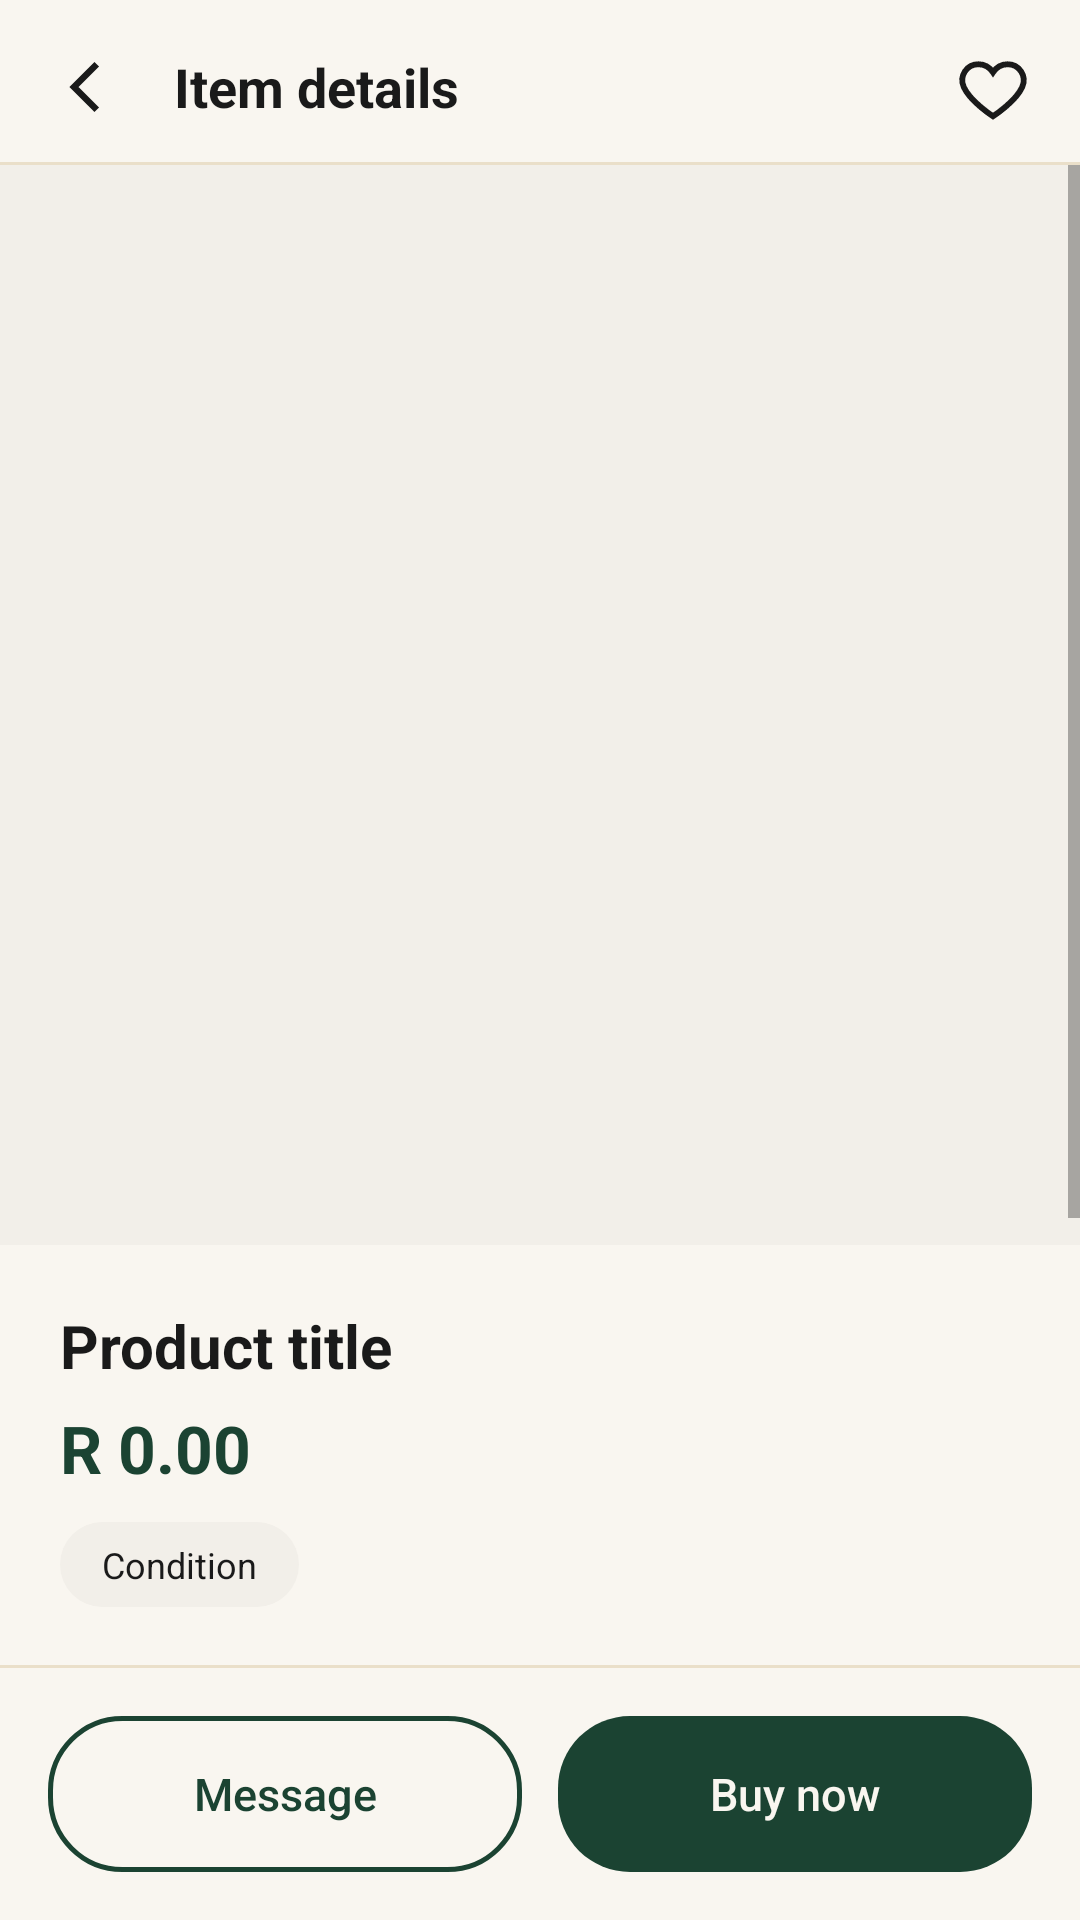

Named icons in this screenshot (1080px×1920px) and their bounding boxes, (x1, y1, x2, y2):
Back: (69, 62, 99, 112)
Favourite: (959, 61, 1027, 120)
